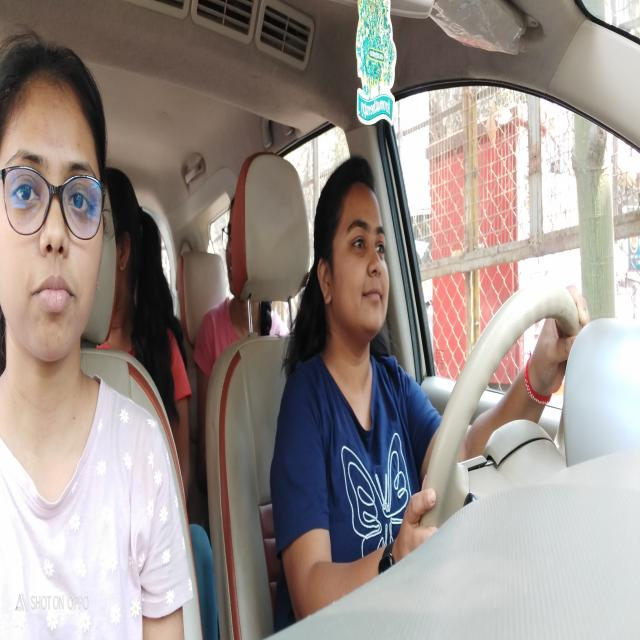person: (0, 53, 107, 367), (315, 155, 395, 376), (108, 162, 162, 363)
